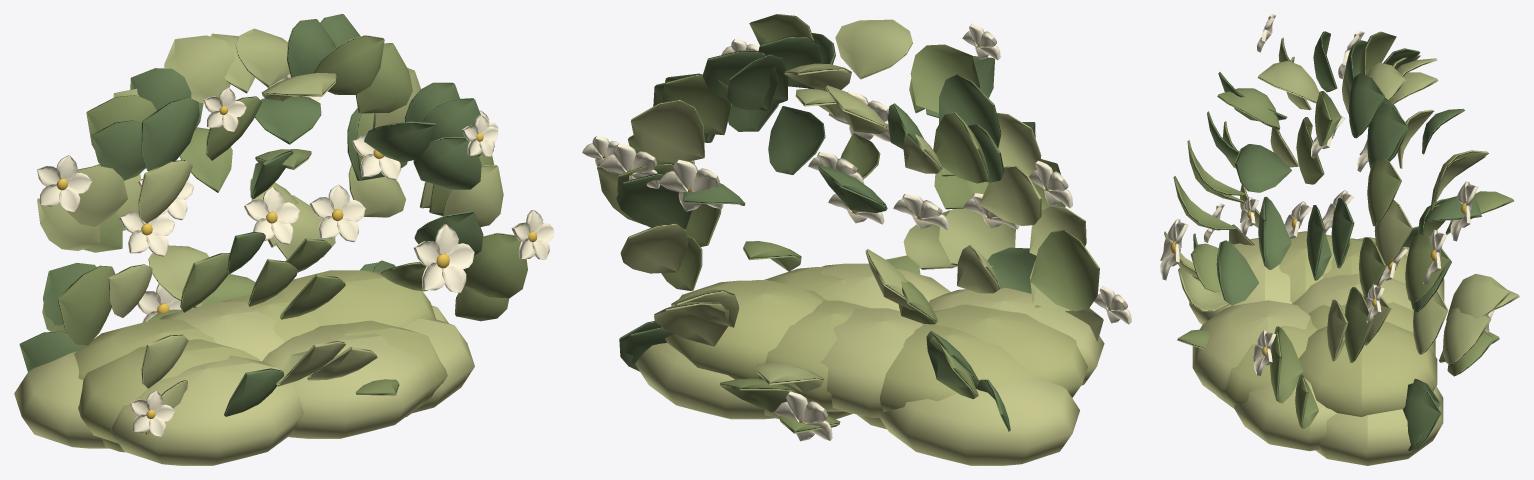
The model's file is garden3d_bush.glb.
3 views of the same model, side by side, from view 1: azimuth 30°, elevation 25°; view 2: azimuth 150°, elevation 25°; view 3: azimuth 270°, elevation 25° (orthographic). The views are drawn at different scales.
Parts seen in each view (by area): view 1: Shrub / individual folded leaves (×3), Shrub / moss volumes (×2), Shrub / daisies / sculpted petals, Shrub / top flowers / sculpted petals, Shrub / daisies / pollen dome; view 2: Shrub / individual folded leaves (×3), Shrub / moss volumes (×2), Shrub / daisies / sculpted petals, Shrub / top flowers / sculpted petals; view 3: Shrub / individual folded leaves (×3), Shrub / moss volumes (×2), Shrub / daisies / sculpted petals, Shrub / top flowers / sculpted petals.
Boxes of the visible parts, x1,y1,x2,y2 form: Shrub / individual folded leaves (×3): (19, 14, 527, 434); Shrub / moss volumes (×2): (14, 270, 474, 465); Shrub / daisies / sculpted petals: (37, 74, 553, 436); Shrub / top flowers / sculpted petals: (119, 127, 400, 256); Shrub / daisies / pollen dome: (56, 96, 537, 418); Shrub / individual folded leaves (×3): (597, 14, 1103, 433); Shrub / moss volumes (×2): (635, 263, 1104, 465); Shrub / daisies / sculpted petals: (582, 23, 1131, 441); Shrub / top flowers / sculpted petals: (808, 152, 1019, 230); Shrub / individual folded leaves (×3): (1164, 31, 1519, 451); Shrub / moss volumes (×2): (1189, 231, 1444, 465); Shrub / daisies / sculpted petals: (1160, 14, 1494, 375); Shrub / top flowers / sculpted petals: (1284, 116, 1408, 286).
Size of the model in its own units: 4.8 by 3.67 by 3.41.
